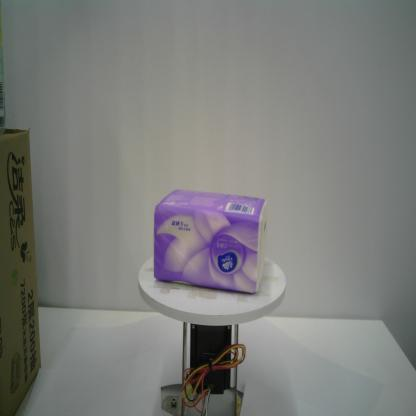Tissue: (152, 188, 268, 295)
